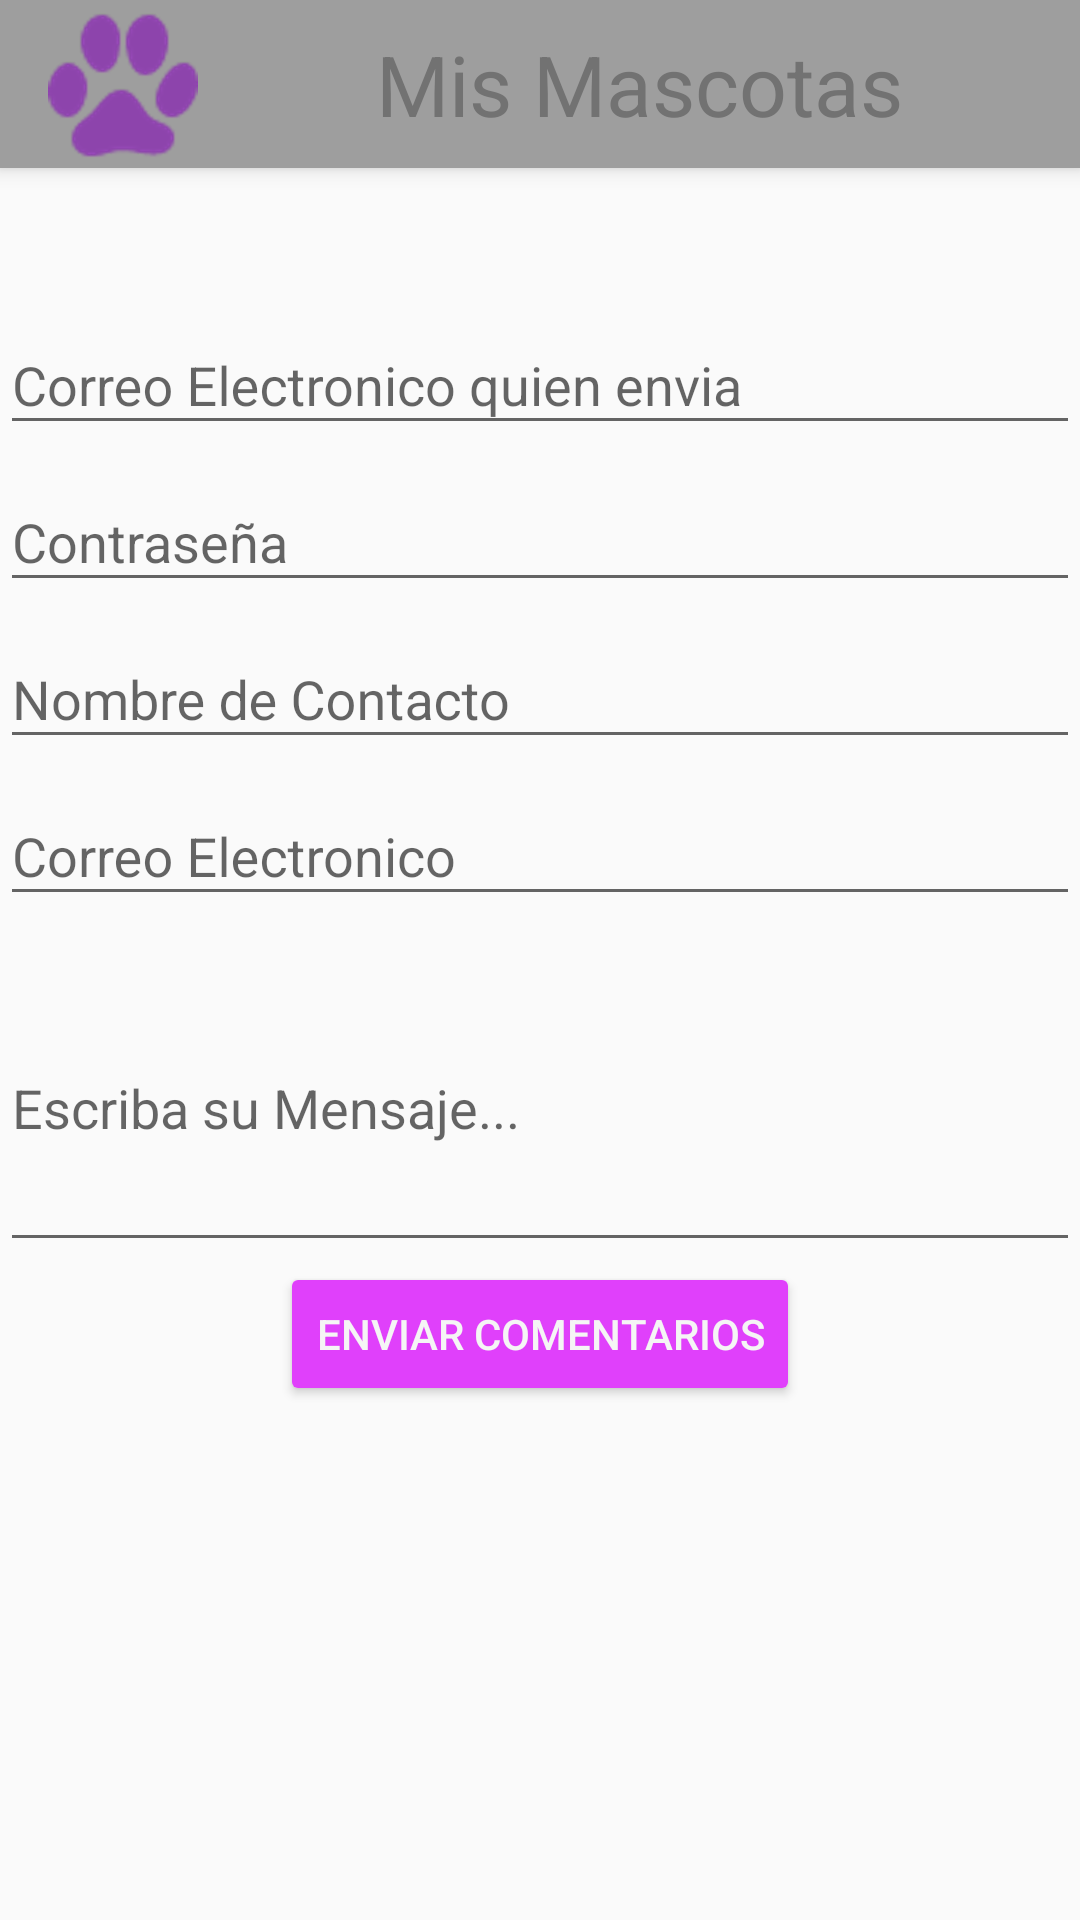

Icon click points for this 1080px x 1920px phone screenshot, format (x,y):
footprint: (123,85)
